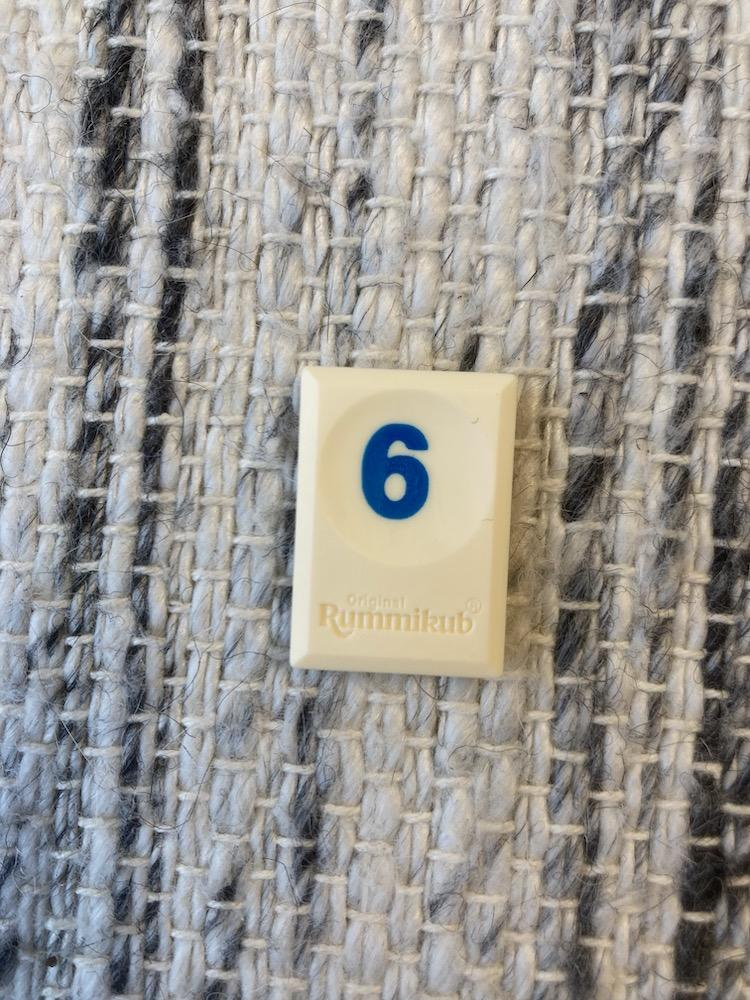blue_6: (291, 367, 516, 676)
